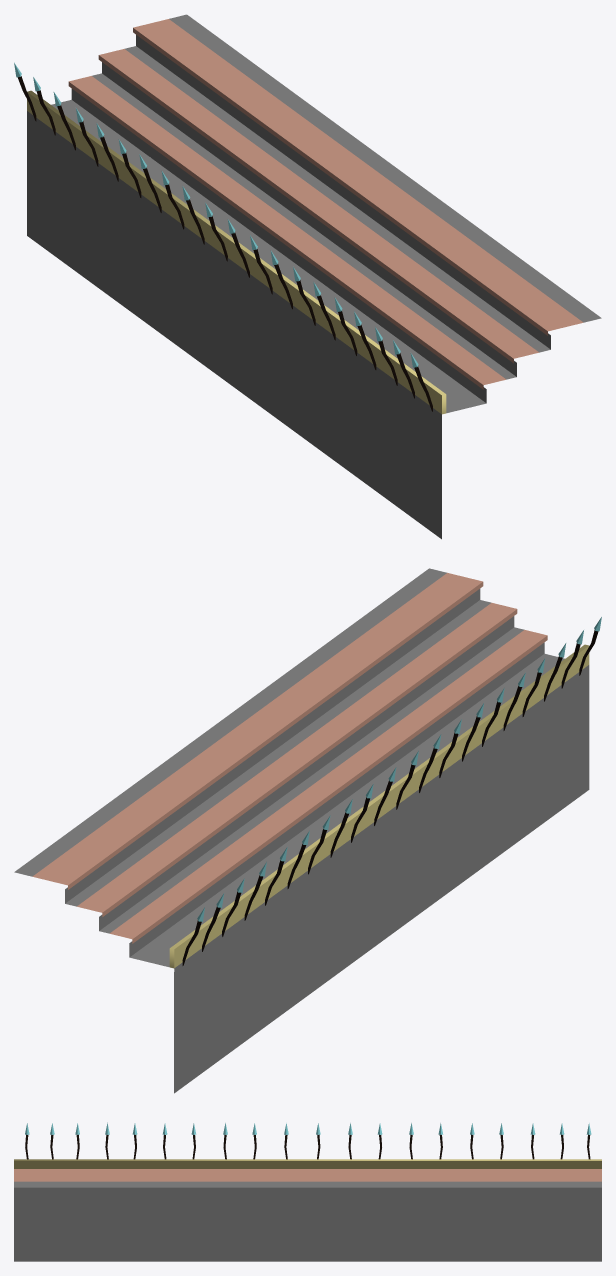
The model's file is ArenaOptimized.FBX.
The picture shows the model from 3 angles, top to bottom: view 1: azimuth 30°, elevation 25°; view 2: azimuth 150°, elevation 25°; view 3: azimuth 270°, elevation 25°; orthographic projection. The views are drawn at different scales.
Parts seen in each view (by area): view 1: Plane002; view 2: Plane002; view 3: Plane002.
Boxes of the visible parts, box(x1,y1,x2,y2) form: Plane002: box(14, 14, 601, 539); Plane002: box(14, 568, 601, 1093); Plane002: box(14, 1122, 601, 1261).
Size of the model in its own units: 100 by 97.49 by 395.
